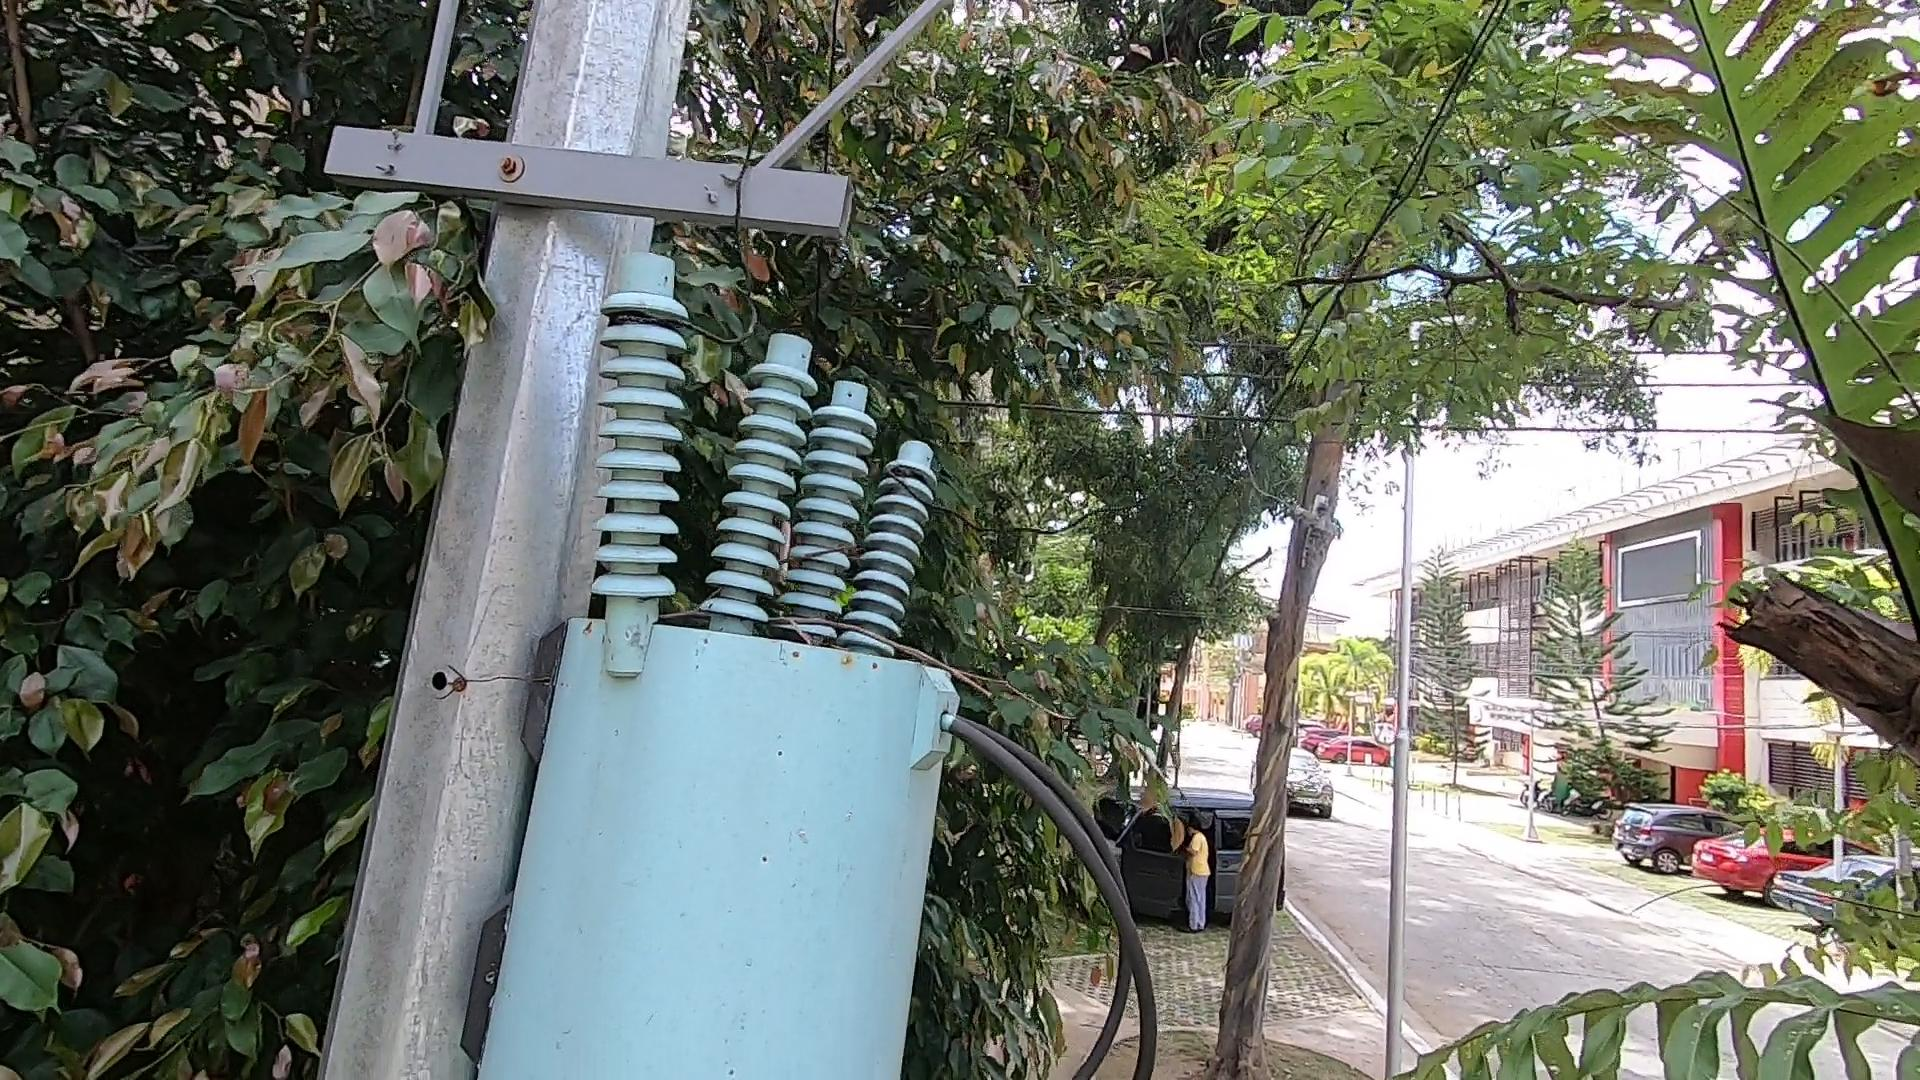leaf: (756, 609, 819, 657)
tree branch: (651, 589, 1002, 702)
